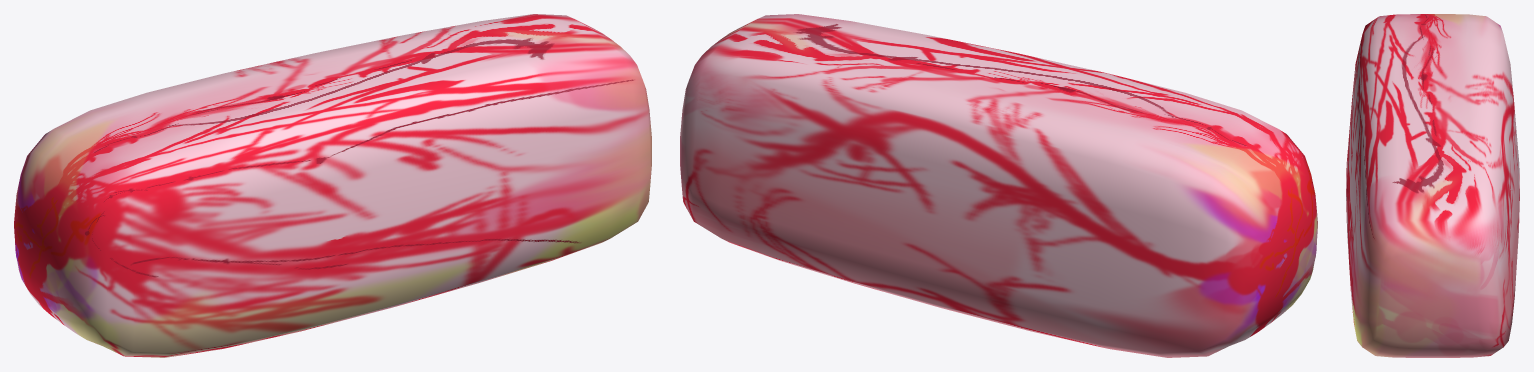
File: fishorgan.fbx
3 views of the same model, side by side, from view 1: azimuth 30°, elevation 25°; view 2: azimuth 150°, elevation 25°; view 3: azimuth 270°, elevation 25° (orthographic). The views are drawn at different scales.
Visible parts, largest first — view 1: bladder; view 2: bladder; view 3: bladder.
Part boxes in pixels (x1,y1,x2,y2): bladder: (14,14,651,357); bladder: (680,14,1317,357); bladder: (1346,14,1519,357).
Bounding box in the file's own units: 563 × 189 × 178.
